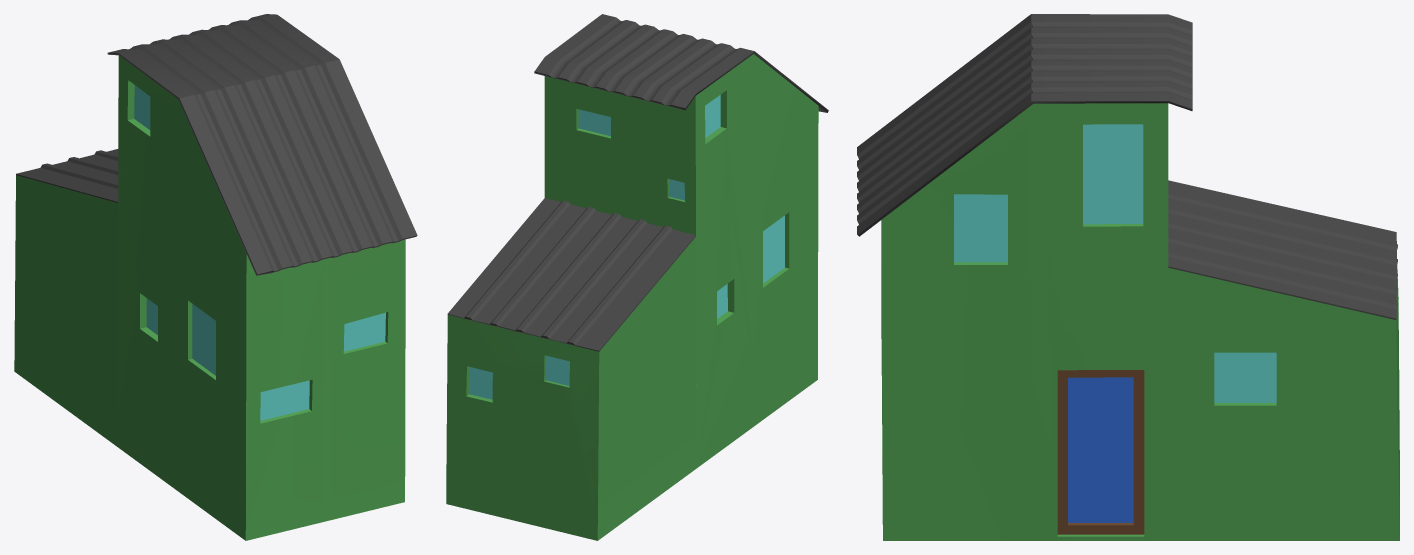
File: Medium_Favelahouse(1).fbx
The picture shows the model from 3 angles, left to right: view 1: azimuth 30°, elevation 25°; view 2: azimuth 150°, elevation 25°; view 3: azimuth 270°, elevation 25°; orthographic projection. The views are drawn at different scales.
Parts seen in each view (by area): view 1: Medium_Favelahouse; view 2: Medium_Favelahouse; view 3: Medium_Favelahouse.
Boxes of the visible parts, left/top/right/bottom form: Medium_Favelahouse: left=14, top=14, right=417, bottom=540; Medium_Favelahouse: left=446, top=14, right=828, bottom=540; Medium_Favelahouse: left=857, top=14, right=1399, bottom=540.
Size of the model in its own units: 4777 by 11225 by 12544.
